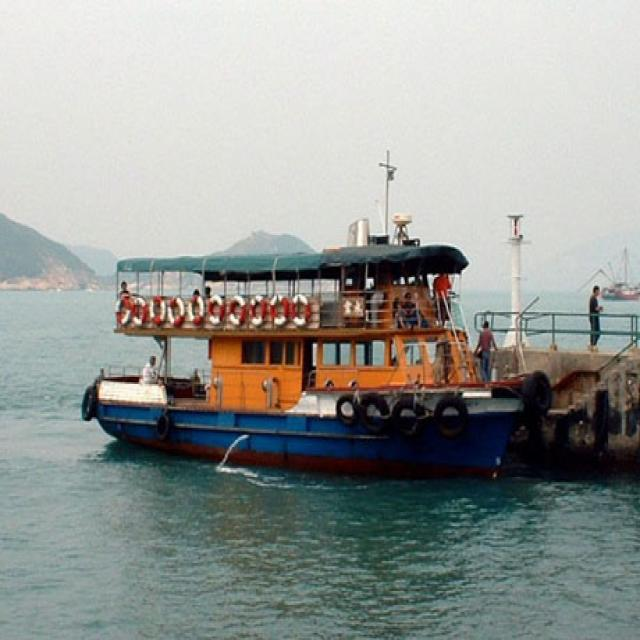houseboat: (102, 209, 528, 466)
